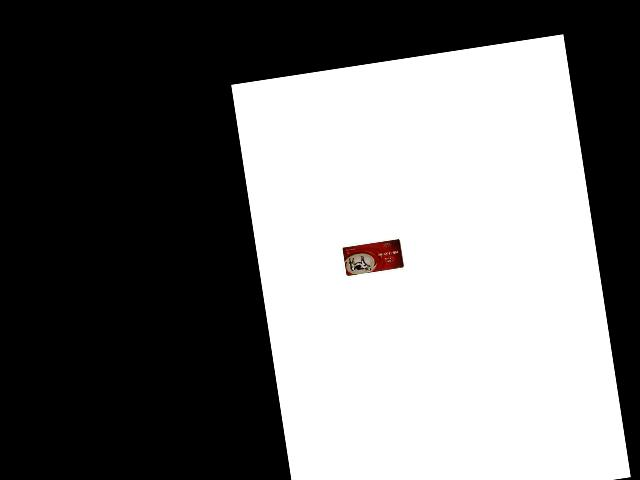chocolate: (342, 237, 405, 275)
